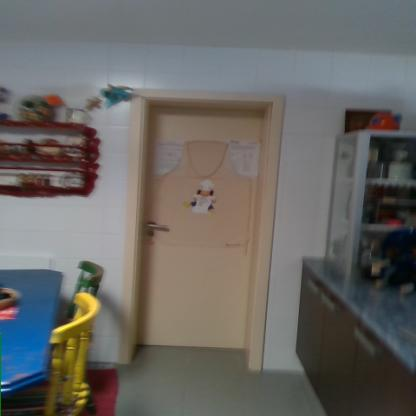closed: (106, 79, 302, 379)
